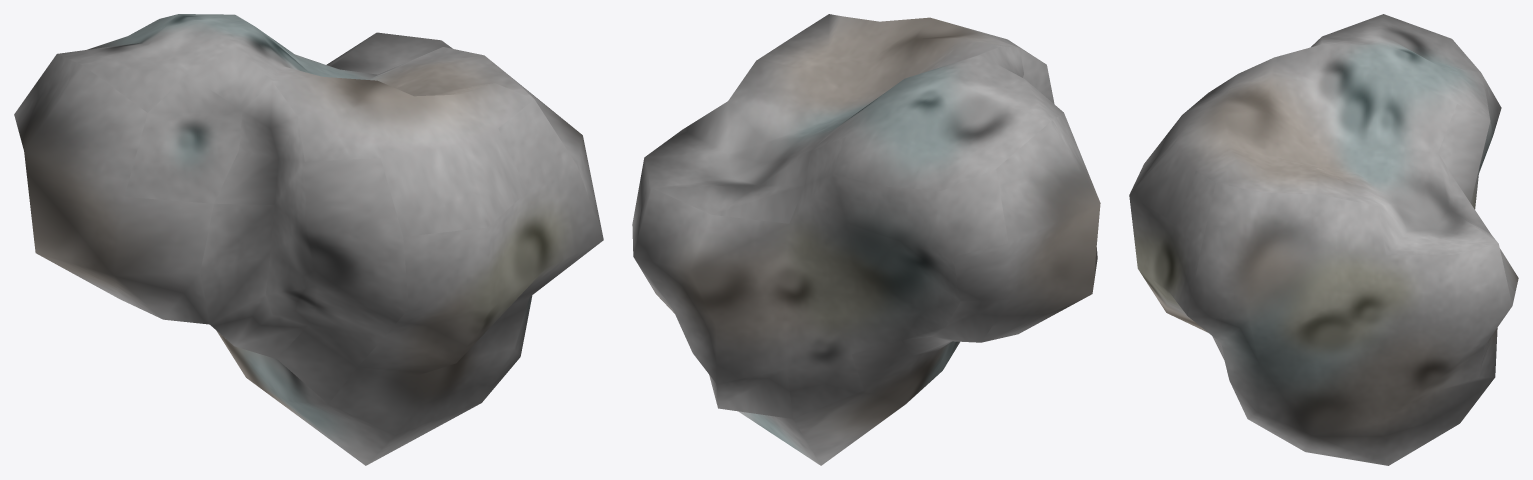
Rendered from Asteroid_3.fbx.
3 views of the same model, side by side, from view 1: azimuth 30°, elevation 25°; view 2: azimuth 150°, elevation 25°; view 3: azimuth 270°, elevation 25° (orthographic). The views are drawn at different scales.
Visible parts, largest first — view 1: pCube1; view 2: pCube1; view 3: pCube1.
Part boxes in pixels (<box>): pCube1: <box>14,14,603,465</box>; pCube1: <box>632,14,1100,465</box>; pCube1: <box>1129,14,1518,465</box>.
Size of the model in its own units: 1.42 by 1.3 by 1.27.
